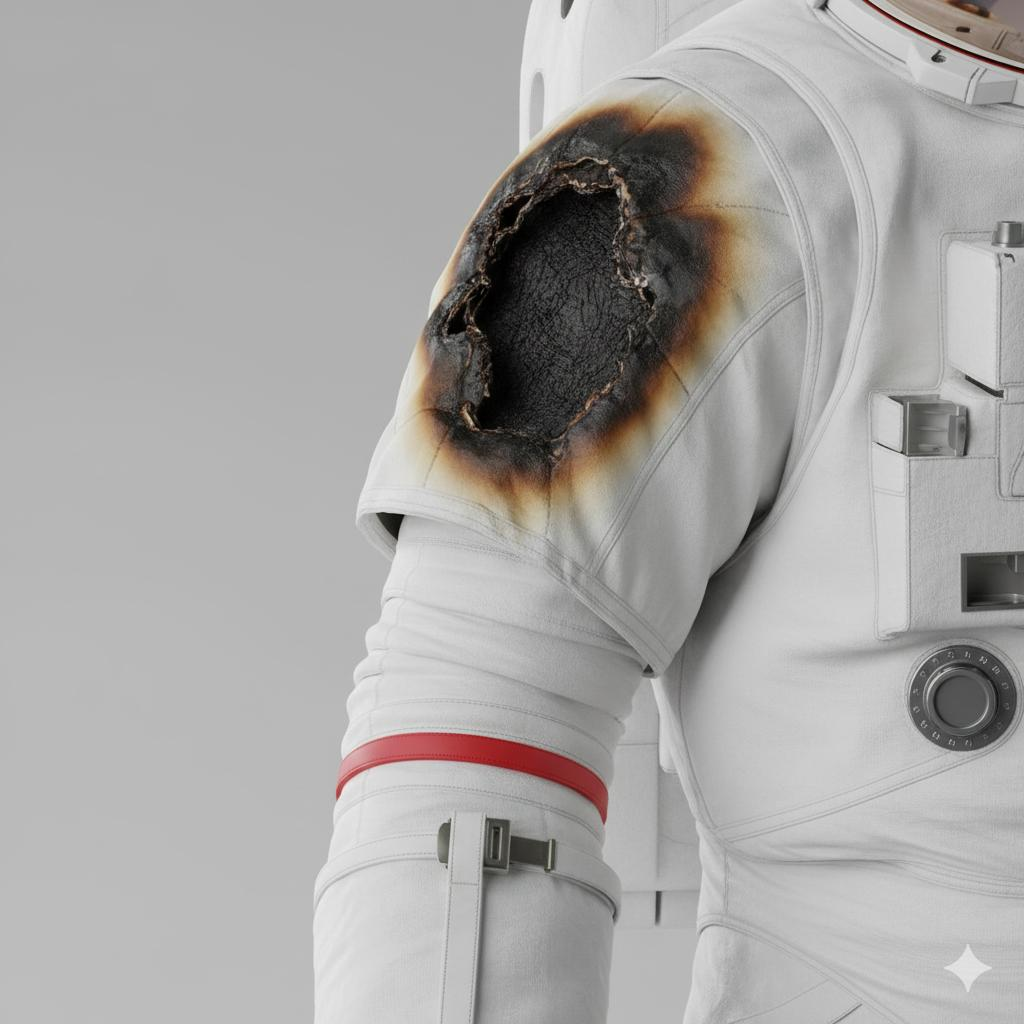burn: (388, 91, 848, 534)
